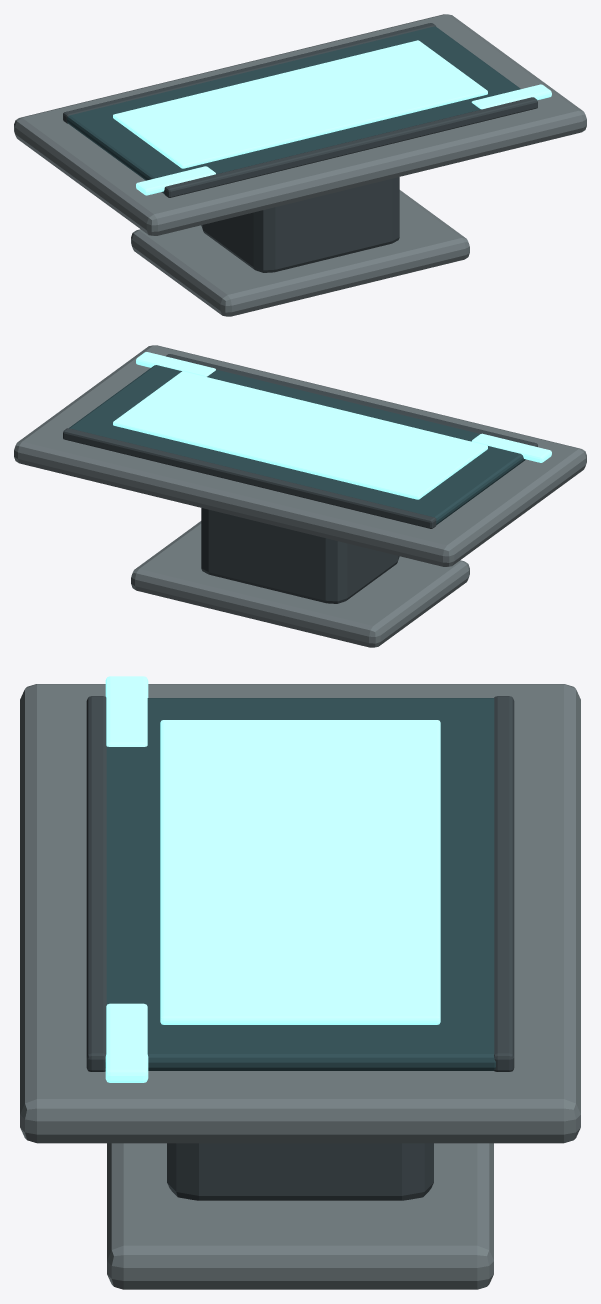
Rendered from BriefingTable_A.fbx.
3 renders of one model, top to bottom at view 1: azimuth 30°, elevation 25°; view 2: azimuth 150°, elevation 25°; view 3: azimuth 270°, elevation 25°, orthographic. The views are drawn at different scales.
Parts seen in each view (by area): view 1: Briefing Table Top, Briefing Table Display, Briefing Table Foot, Briefing Table Inset, Briefing Table Pedestal, Briefing Table Side Rail, Briefing Table Side Rail.001, Briefing Control Strip, Briefing Control Strip.001; view 2: Briefing Table Top, Briefing Table Display, Briefing Table Foot, Briefing Table Inset, Briefing Table Pedestal, Briefing Table Side Rail.001, Briefing Table Side Rail, Briefing Control Strip, Briefing Control Strip.001; view 3: Briefing Table Top, Briefing Table Display, Briefing Table Inset, Briefing Table Foot, Briefing Table Pedestal, Briefing Table Side Rail.001, Briefing Table Side Rail, Briefing Control Strip.001, Briefing Control Strip.
Boxes of the visible parts, bbox=[...] form: Briefing Table Top: bbox=[14, 14, 586, 235]; Briefing Table Display: bbox=[113, 40, 487, 168]; Briefing Table Foot: bbox=[131, 190, 469, 316]; Briefing Table Inset: bbox=[67, 26, 520, 193]; Briefing Table Pedestal: bbox=[201, 177, 399, 272]; Briefing Table Side Rail: bbox=[164, 97, 537, 197]; Briefing Table Side Rail.001: bbox=[63, 23, 436, 123]; Briefing Control Strip: bbox=[136, 166, 215, 195]; Briefing Control Strip.001: bbox=[471, 84, 551, 109]; Briefing Table Top: bbox=[14, 345, 586, 566]; Briefing Table Display: bbox=[113, 371, 487, 499]; Briefing Table Foot: bbox=[131, 521, 469, 647]; Briefing Table Inset: bbox=[69, 365, 525, 524]; Briefing Table Pedestal: bbox=[201, 508, 399, 603]; Briefing Table Side Rail.001: bbox=[63, 428, 436, 528]; Briefing Table Side Rail: bbox=[166, 354, 537, 446]; Briefing Control Strip: bbox=[471, 433, 551, 462]; Briefing Control Strip.001: bbox=[136, 352, 215, 376]; Briefing Table Top: bbox=[20, 684, 580, 1143]; Briefing Table Display: bbox=[160, 720, 440, 1024]; Briefing Table Inset: bbox=[105, 698, 495, 1070]; Briefing Table Foot: bbox=[107, 1143, 493, 1289]; Briefing Table Pedestal: bbox=[167, 1143, 433, 1200]; Briefing Table Side Rail.001: bbox=[494, 696, 514, 1071]; Briefing Table Side Rail: bbox=[86, 696, 106, 1071]; Briefing Control Strip.001: bbox=[105, 1003, 148, 1082]; Briefing Control Strip: bbox=[105, 676, 148, 746].
Size of the model in its own units: 3.8 by 1.27 by 2.1.
